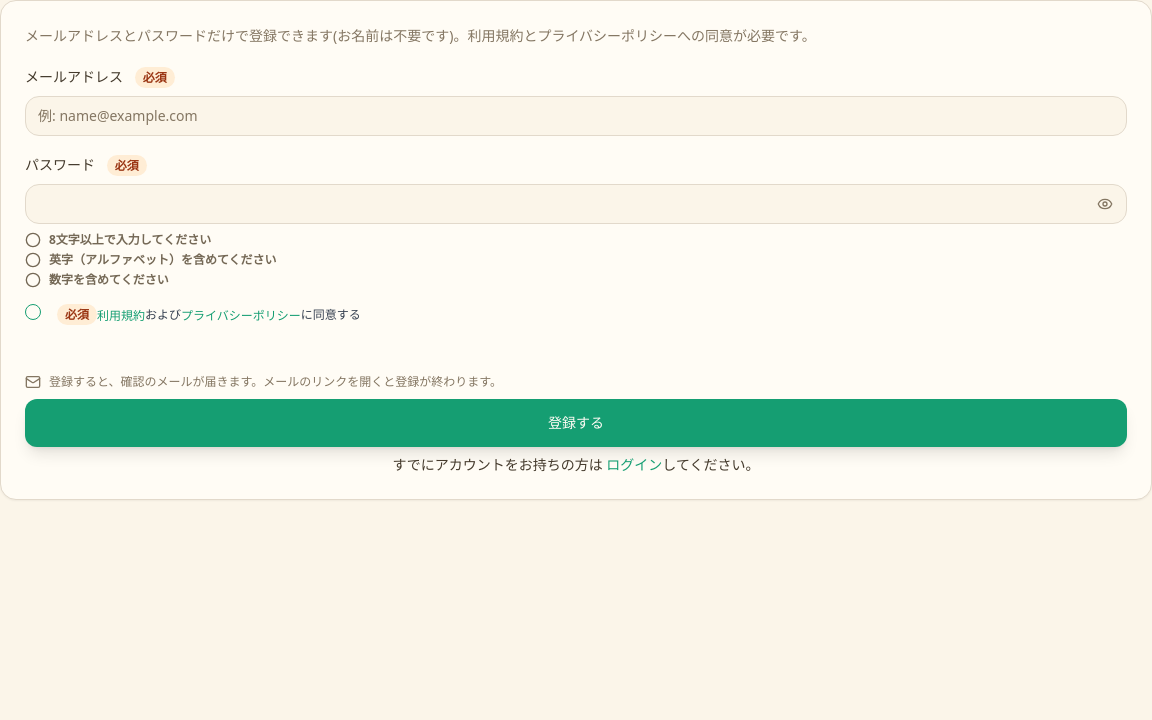
Test: RegisterForm › shows live password requirements and focuses the first invalid field
The width and height of the screenshot is (1152, 720).
Step 1. Click the button "登録する" → click(576, 423), box [25,399,1127,447]
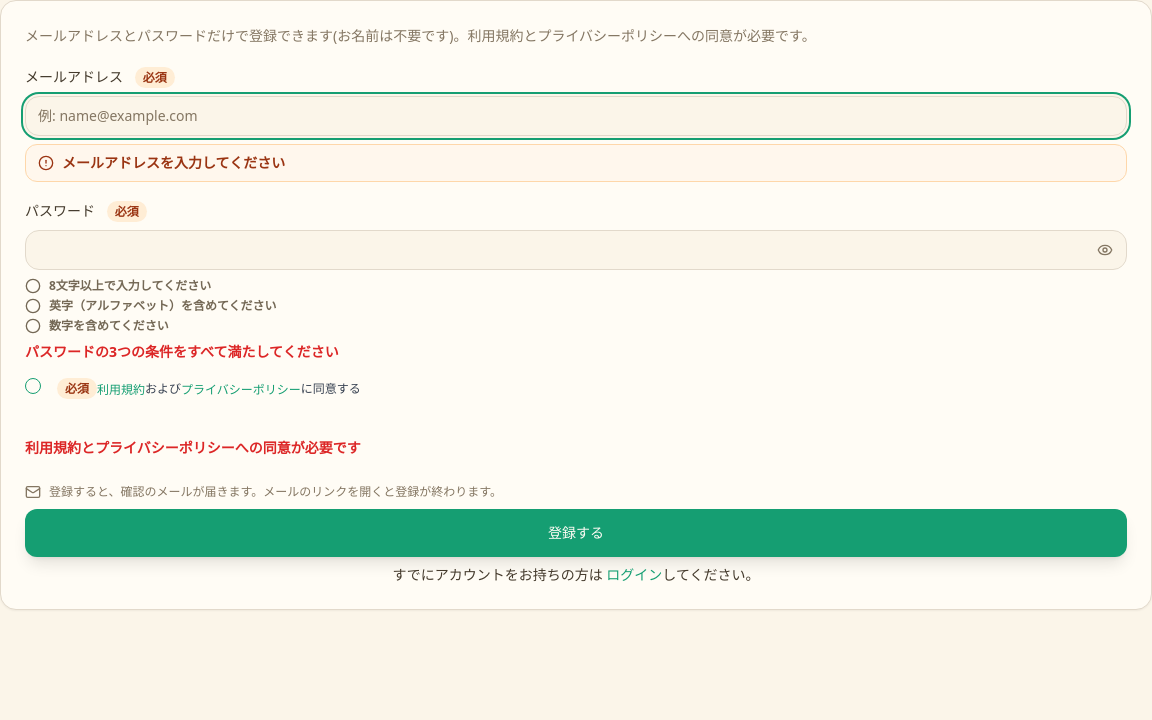
Expected: the list item "英字（アルファベット）を含めてください" is shown, [25,297,276,314]
Expected: the text "メールアドレスを入力してください" is shown, [38,153,285,172]
